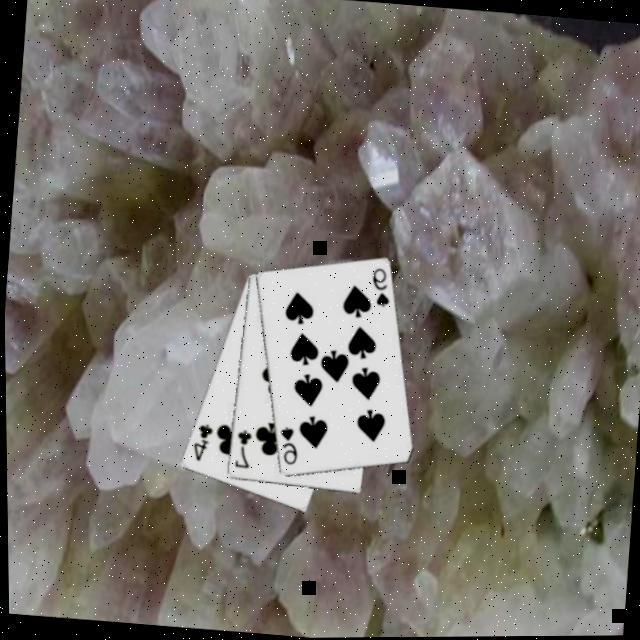4C: (185, 418, 214, 463)
7C: (228, 424, 252, 470)
9S: (364, 262, 393, 308), (272, 421, 300, 466)
